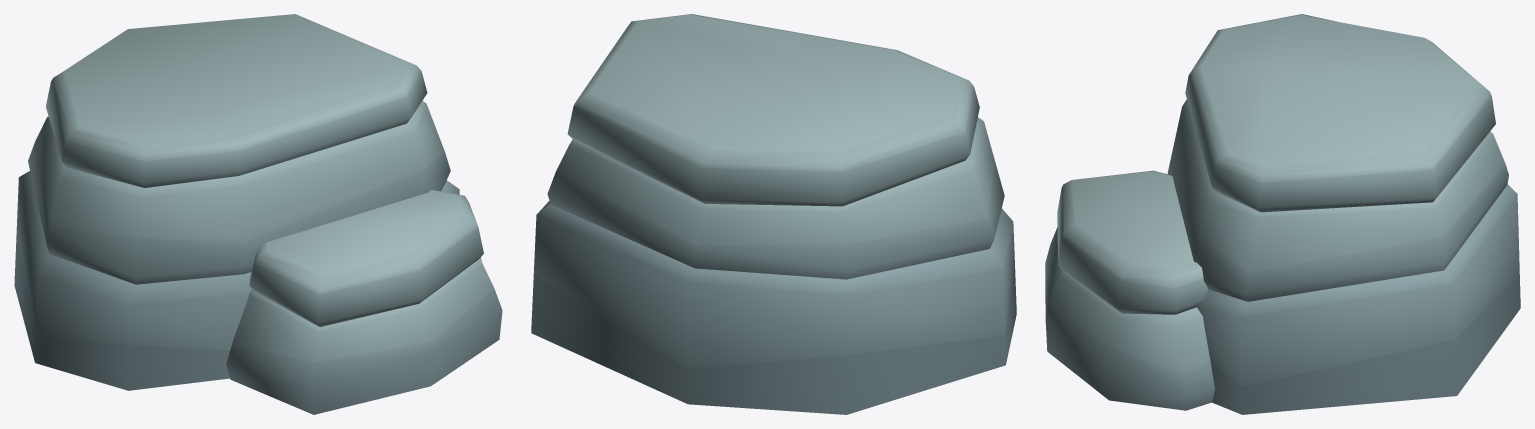
File: rock 02_toon_material_0.001.glb
3 renders of one model, left to right at view 1: azimuth 30°, elevation 25°; view 2: azimuth 150°, elevation 25°; view 3: azimuth 270°, elevation 25°, orthographic. The views are drawn at different scales.
Parts seen in each view (by area): view 1: rock 02_toon_material_0.001; view 2: rock 02_toon_material_0.001; view 3: rock 02_toon_material_0.001.
Part boxes in pixels (x1=…): rock 02_toon_material_0.001: x1=14, y1=14, x2=502, y2=414; rock 02_toon_material_0.001: x1=531, y1=14, x2=1016, y2=414; rock 02_toon_material_0.001: x1=1045, y1=14, x2=1520, y2=414.
Bounding box in the file's own units: 3.78 × 2 × 3.83.
Materials: 1 (1 with a texture image).
